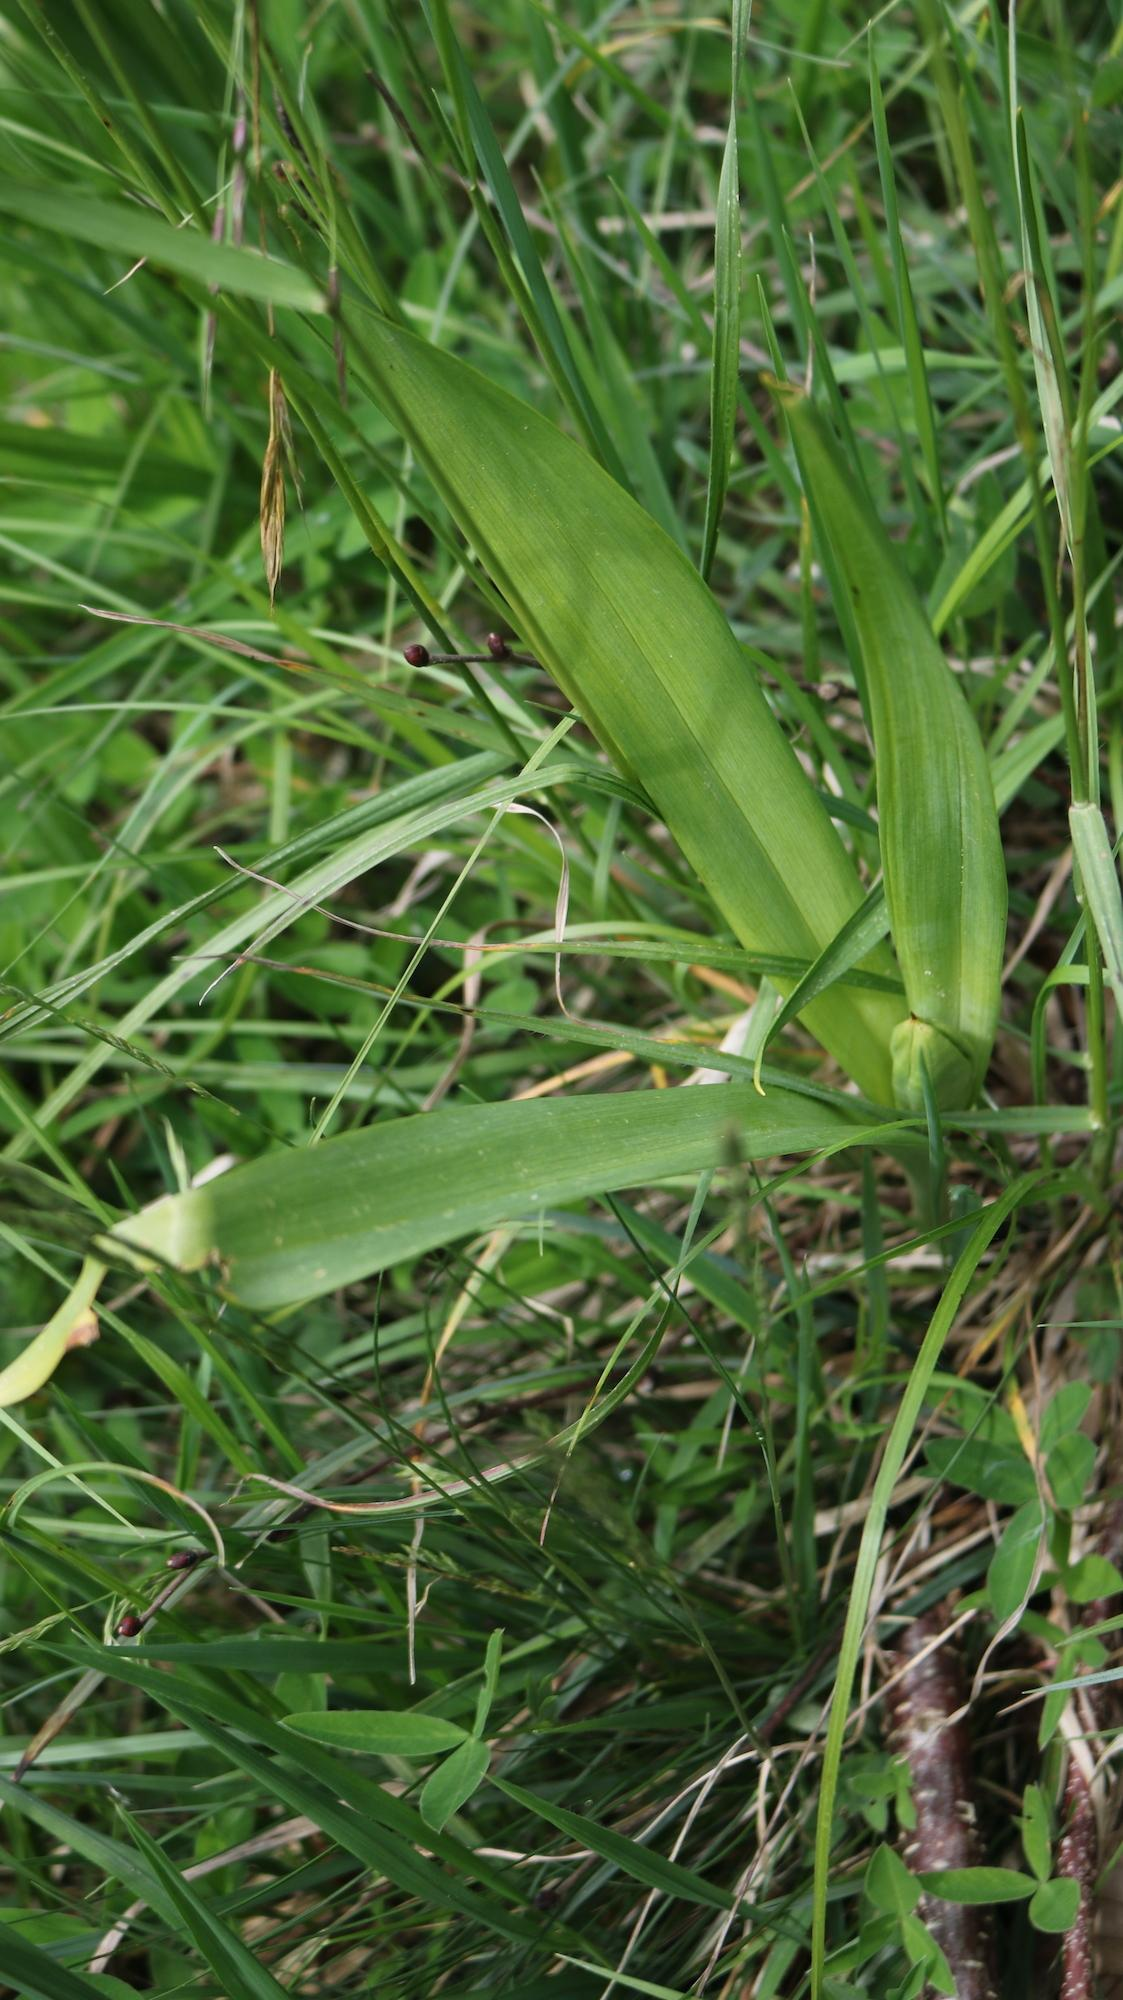Colchicum autumnale L: (130, 264, 1024, 1390)
